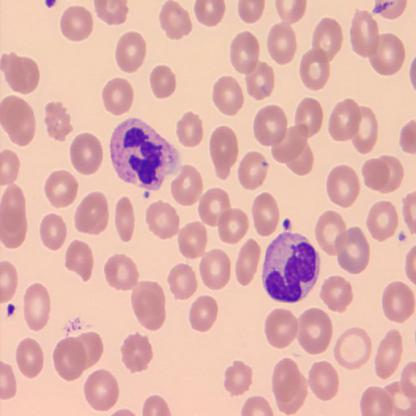Segmented neutrophil: (108, 114, 184, 193), (259, 228, 322, 305)
